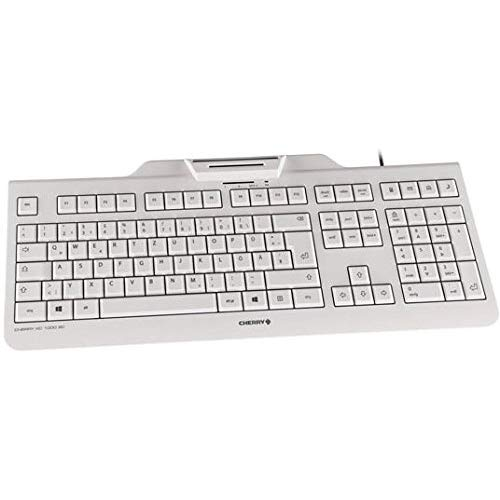Teclado: (1, 151, 500, 346)
